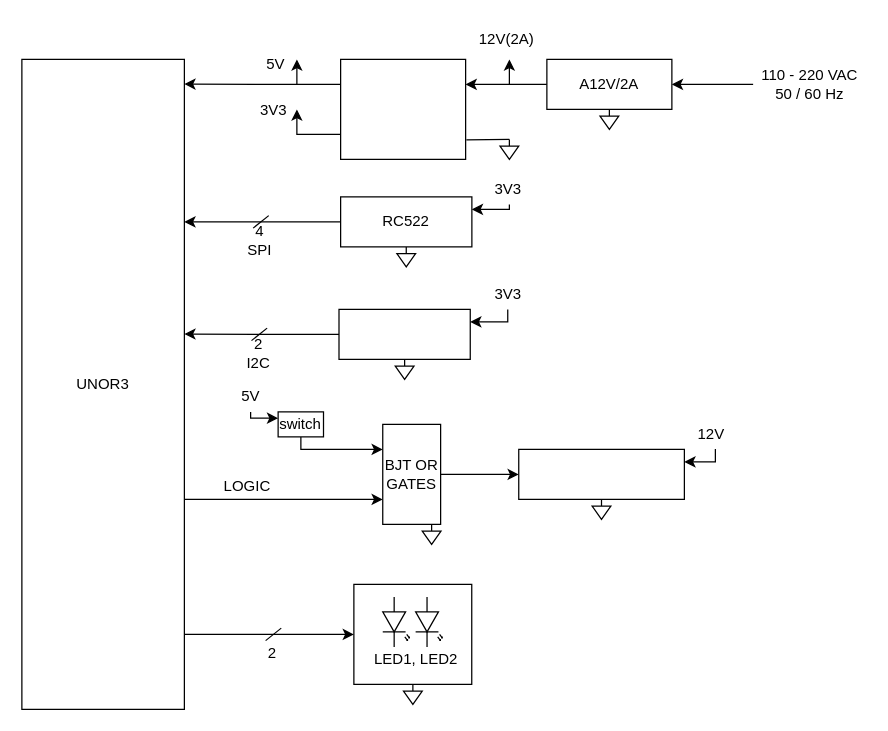
Some shapes in this 888 by 731 pixel diagram are drawn without their labels. Here are the shapes that lost their labels. From the top down, the centre of each, then its label:
At (x=402, y=108): "PWRDC".
At (x=404, y=333): "MLX90614".
At (x=601, y=473): "SOLENOIDLOCK".
